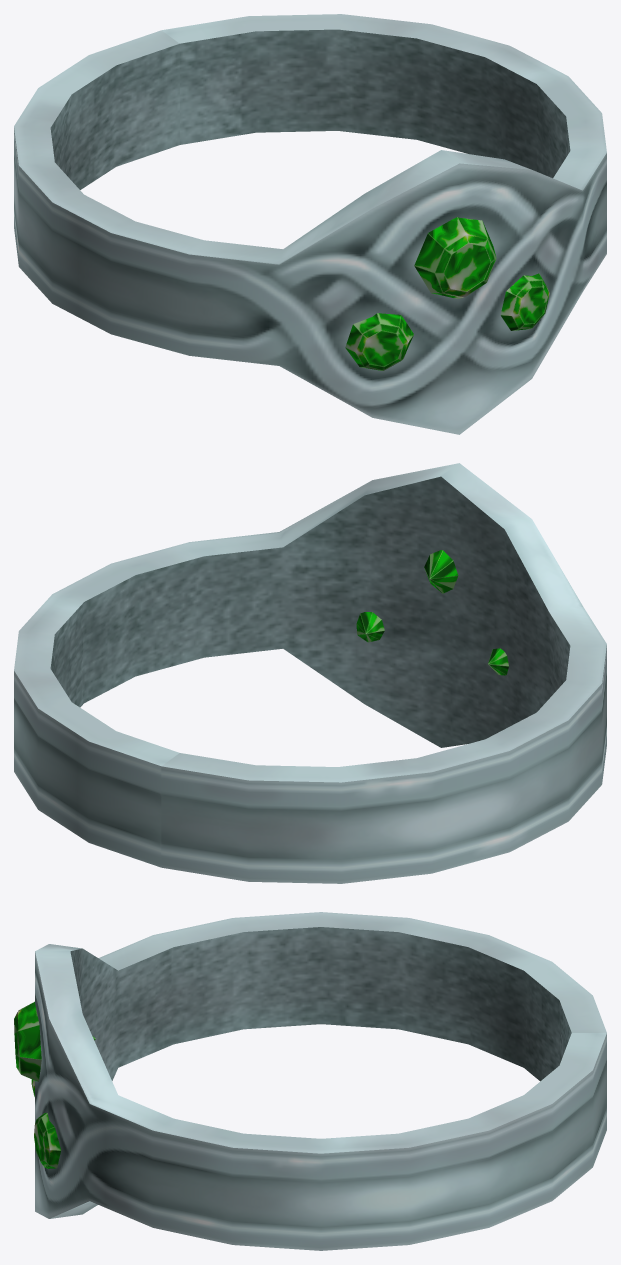
The model's file is ring_silver_09.fbx.
3 views of the same model, one above another, from view 1: azimuth 30°, elevation 25°; view 2: azimuth 150°, elevation 25°; view 3: azimuth 270°, elevation 25° (orthographic). The views are drawn at different scales.
Parts seen in each view (by area): view 1: ring_silver_09; view 2: ring_silver_09; view 3: ring_silver_09.
Part boxes in pixels (x1,y1,x2,y2): ring_silver_09: [14, 14, 606, 434]; ring_silver_09: [14, 463, 606, 883]; ring_silver_09: [14, 912, 606, 1250].
Bounding box in the file's own units: 2.04 × 1.03 × 2.12.
